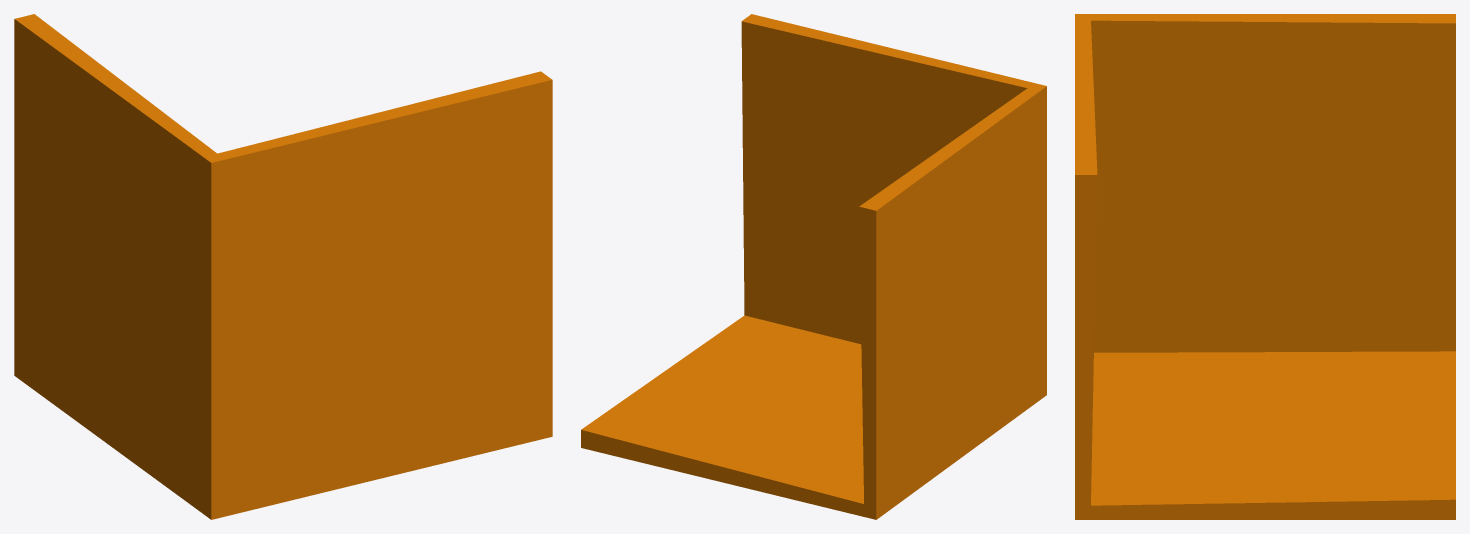
File: room.glb
3 views of the same model, side by side, from view 1: azimuth 30°, elevation 25°; view 2: azimuth 150°, elevation 25°; view 3: azimuth 270°, elevation 25° (orthographic). The views are drawn at different scales.
Parts seen in each view (by area): view 1: Cube; view 2: Cube; view 3: Cube.
Part boxes in pixels (x1,y1,x2,y2): Cube: (14, 14, 552, 519); Cube: (581, 14, 1046, 519); Cube: (1075, 14, 1455, 519).
Size of the model in its own units: 2 by 2 by 2.
